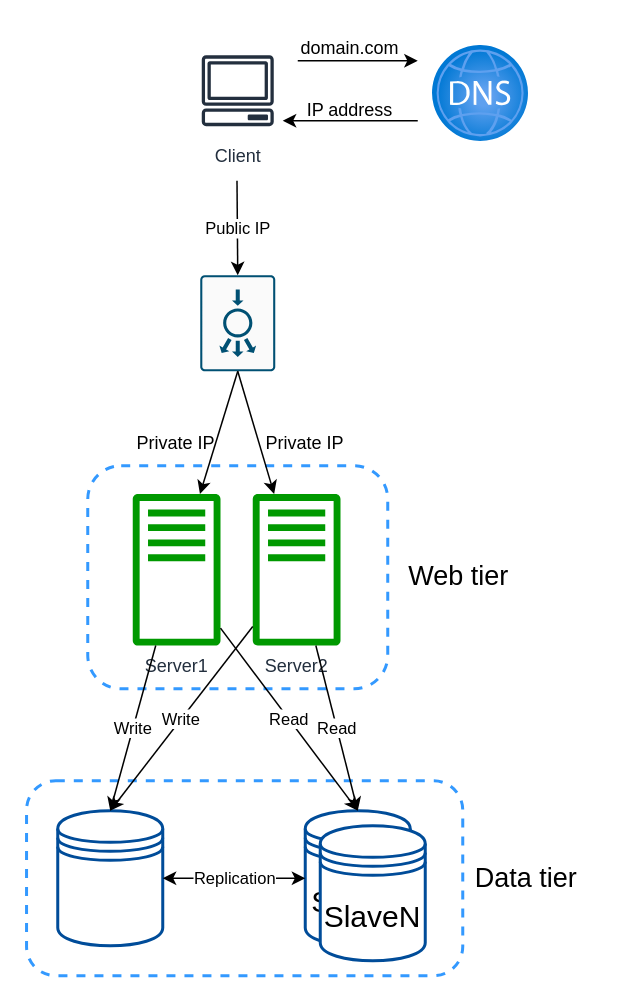
The diagram is 617 pixels wide and 1002 high, and some of its shapes have lost their labels. The box of each missing label's shape, as (x1, y1, x2, y2) in pixels:
Load Balancer: (199, 274, 275, 371)
Master: (56, 808, 164, 946)
